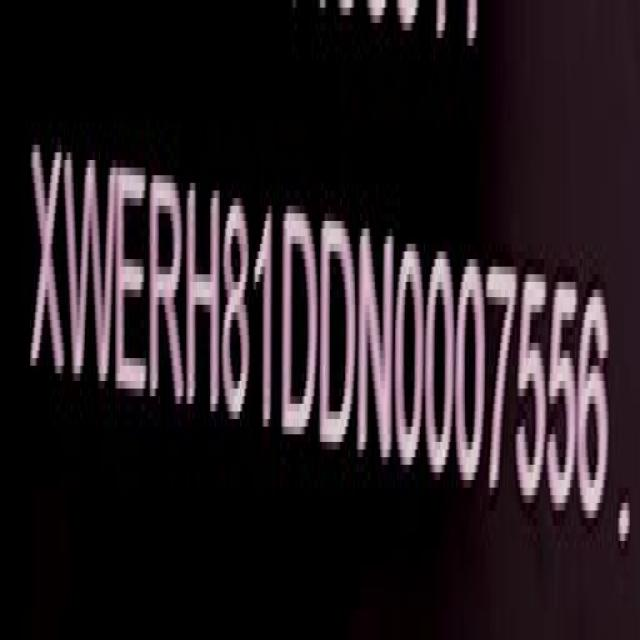0: (427, 239, 457, 485), (397, 232, 427, 476), (454, 251, 484, 493)
1: (256, 197, 276, 441)
5: (518, 250, 549, 514), (550, 266, 580, 524)
6: (577, 290, 610, 515)
7: (488, 250, 518, 510)
8: (221, 190, 250, 432)
D: (278, 189, 317, 458), (322, 204, 356, 461)
E: (115, 148, 150, 410)
H: (185, 165, 222, 423)
N: (358, 219, 395, 474)
R: (146, 156, 185, 416)
W: (64, 135, 117, 403)
X: (29, 128, 68, 401)
